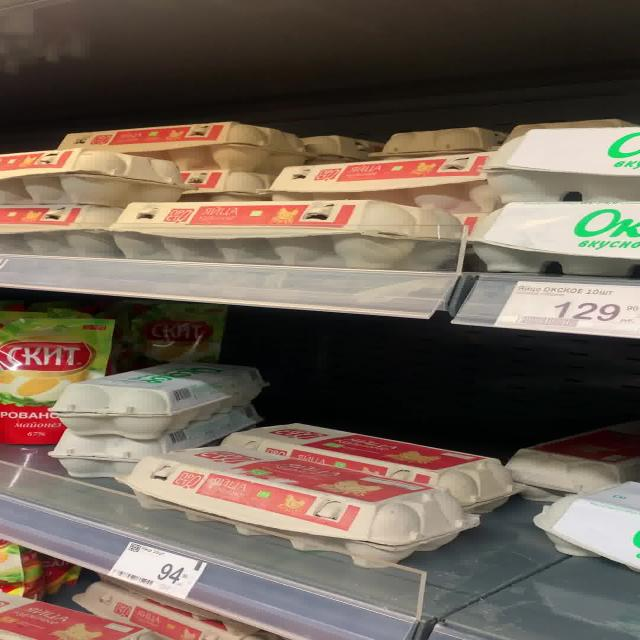egg box: (102, 438, 453, 560), (102, 191, 453, 265), (242, 409, 504, 501), (54, 358, 262, 419), (49, 119, 296, 166), (280, 156, 500, 199)
